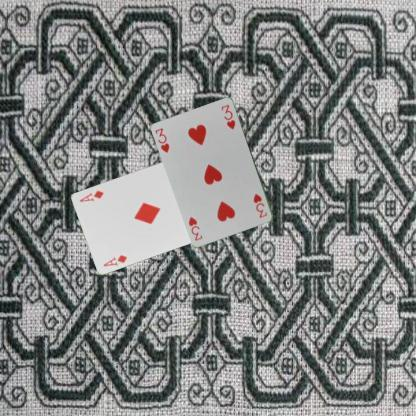3h: (152, 126, 172, 154), (250, 191, 268, 219)
Ad: (101, 251, 128, 268)
